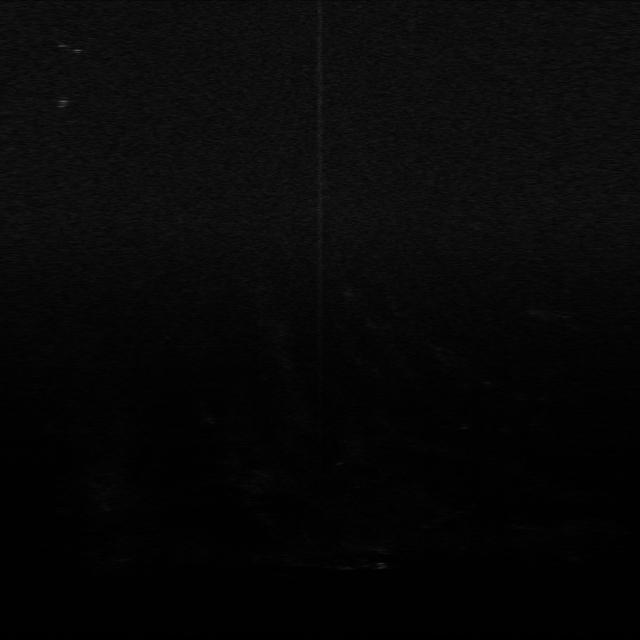rov: (50, 92, 74, 112)
